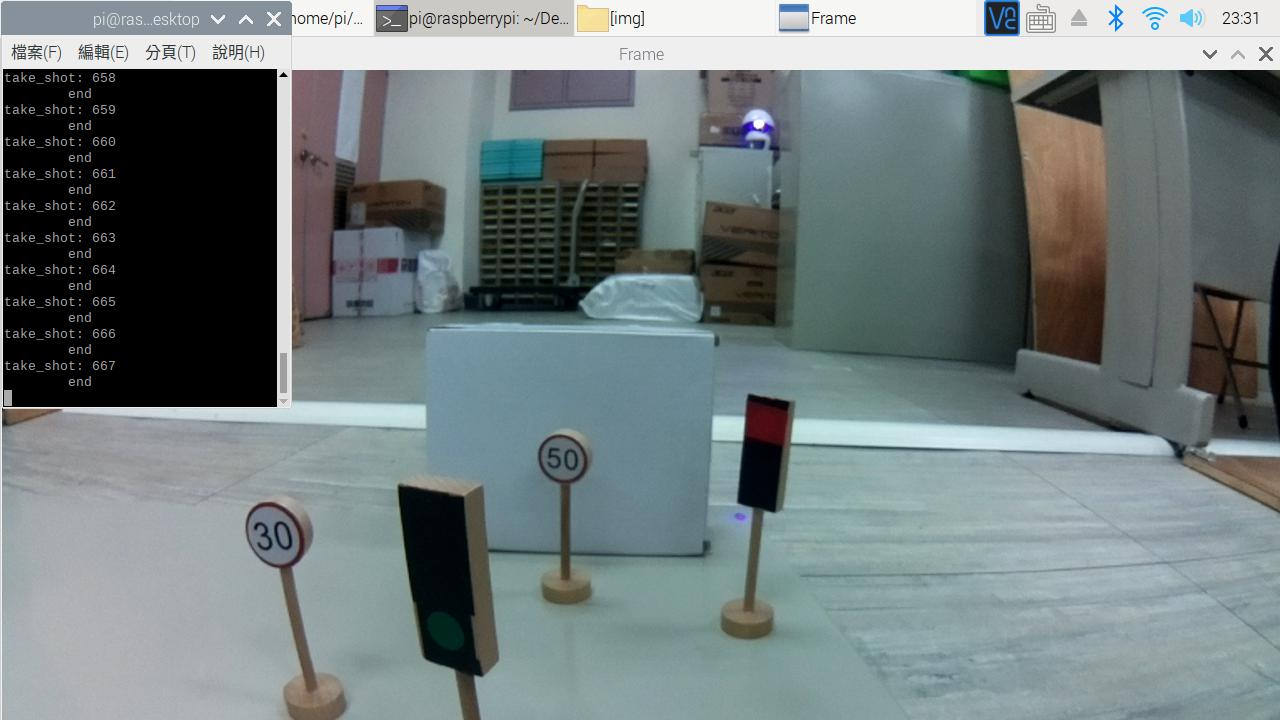Green: (383, 468, 518, 688)
Red: (730, 378, 803, 509)
Speed30: (237, 486, 318, 575)
Speed50: (533, 425, 604, 503)
